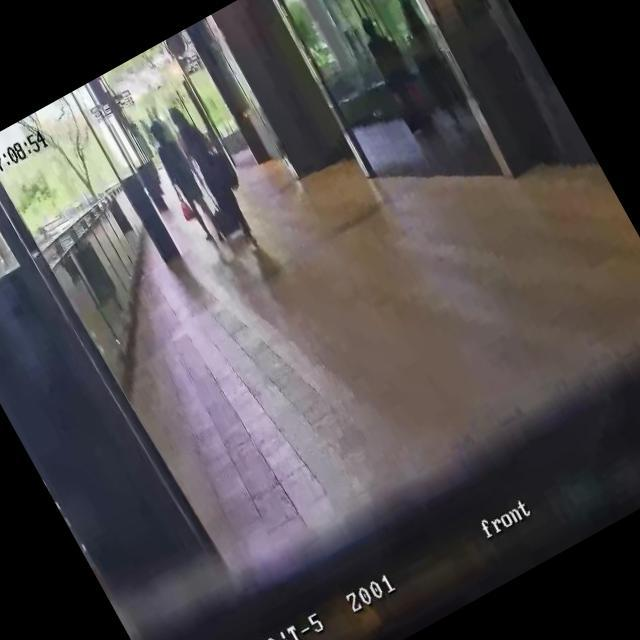person: (161, 98, 268, 256), (139, 114, 233, 254), (351, 10, 443, 140), (384, 0, 476, 127)
